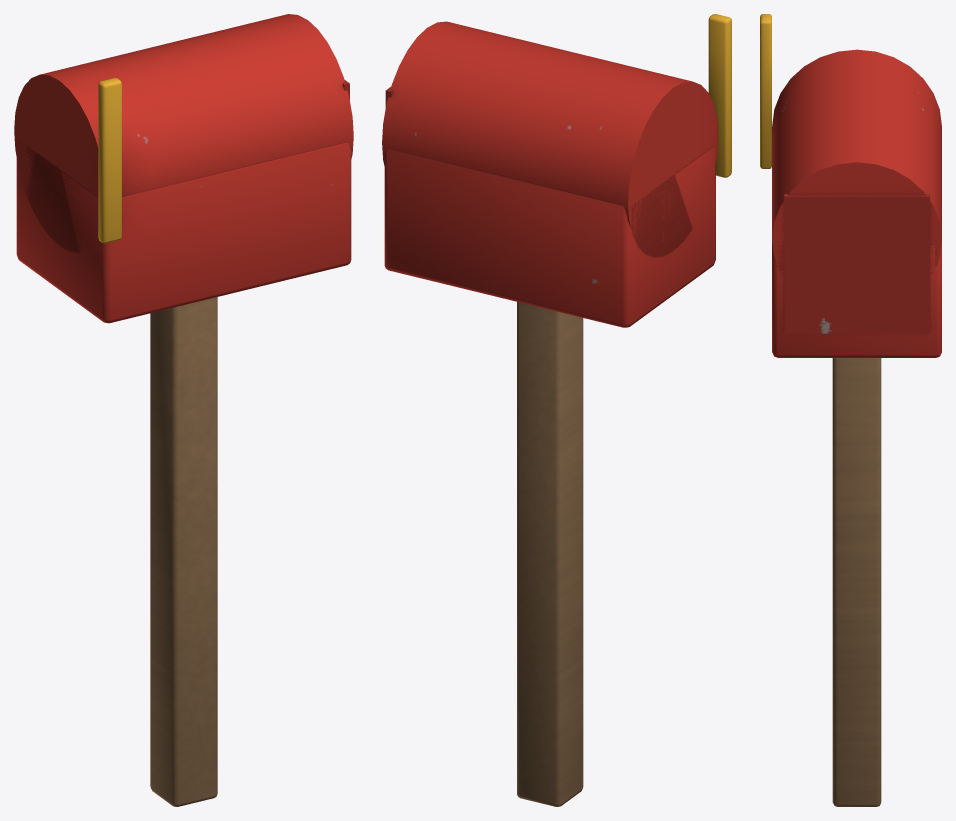
File: prop_mailbox.fbx
The picture shows the model from 3 angles, left to right: view 1: azimuth 30°, elevation 25°; view 2: azimuth 150°, elevation 25°; view 3: azimuth 270°, elevation 25°; orthographic projection. The views are drawn at different scales.
Visible parts, largest first — view 1: prop_mailbox; view 2: prop_mailbox; view 3: prop_mailbox.
Part boxes in pixels (left/top/right/bottom): prop_mailbox: left=14, top=14, right=353, bottom=806; prop_mailbox: left=382, top=14, right=731, bottom=806; prop_mailbox: left=760, top=14, right=941, bottom=806.
Bounding box in the file's own units: 0.46 × 1.32 × 0.3.
